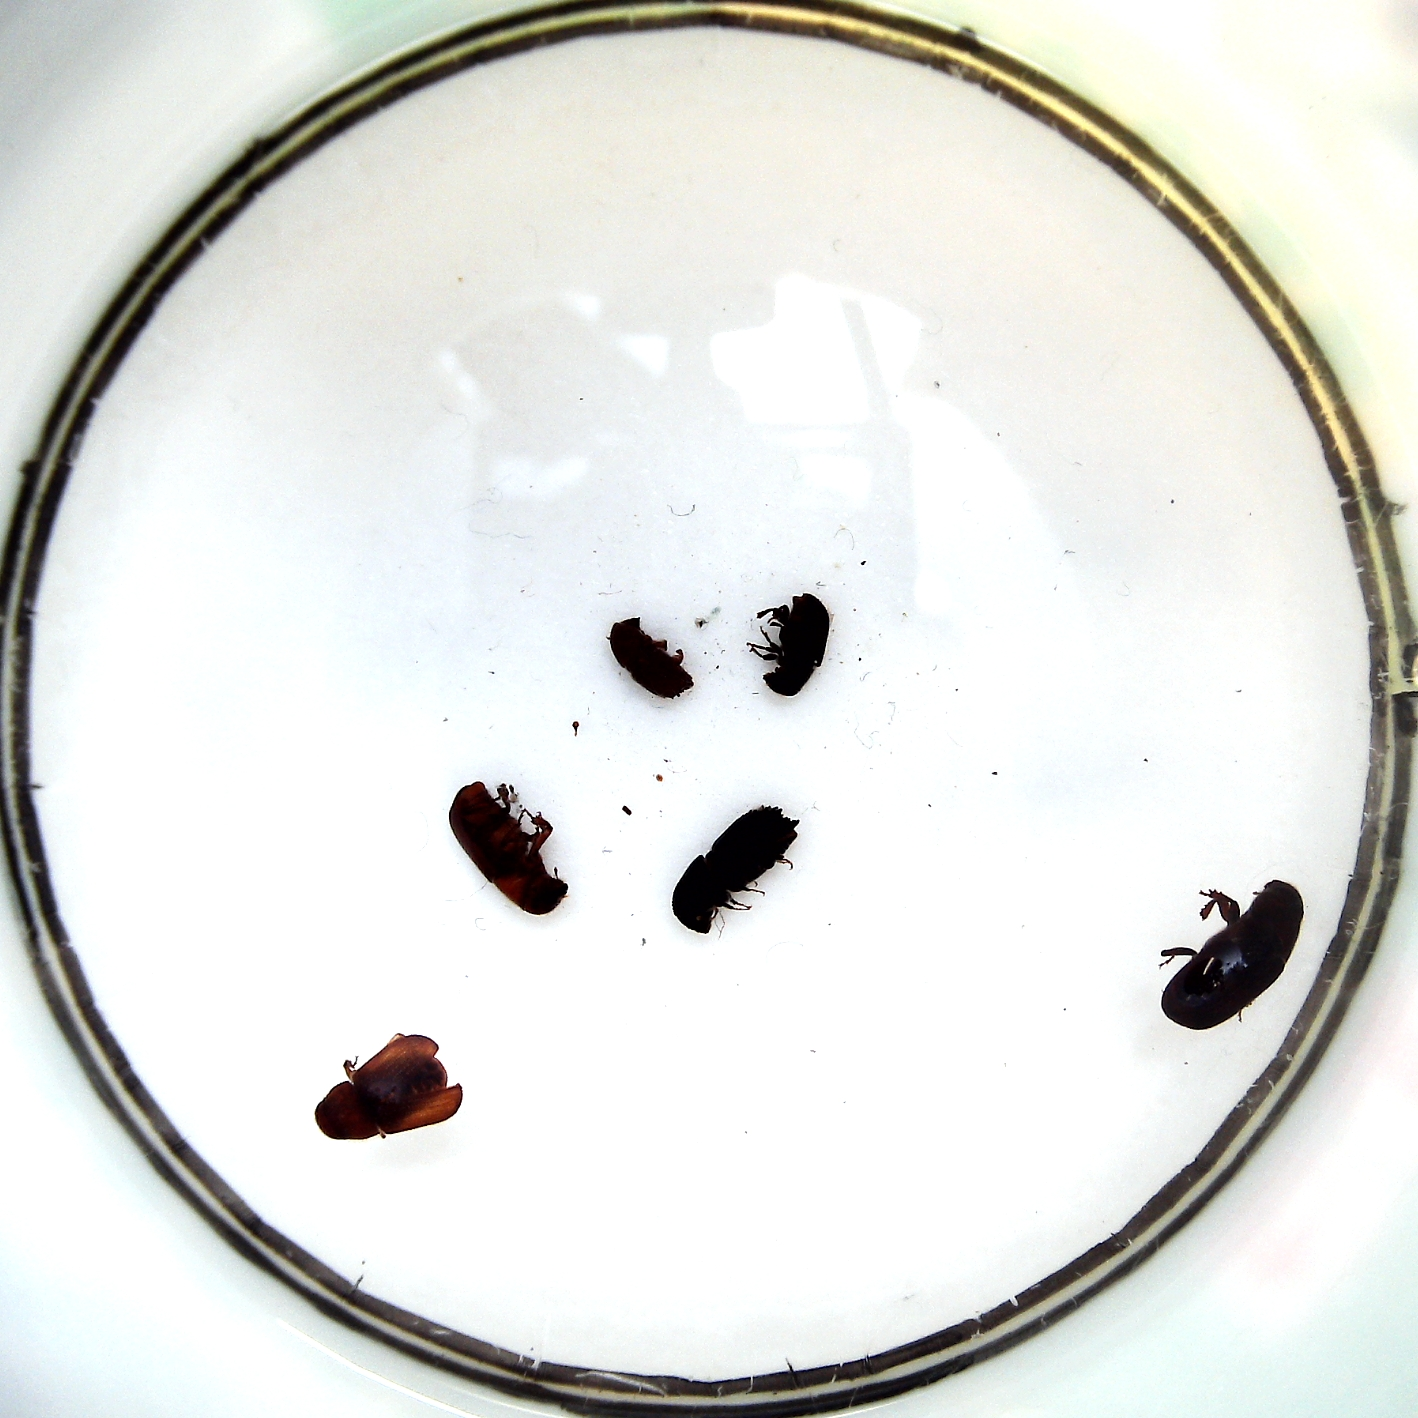Boerner: (671, 802, 799, 935)
Leconte: (1161, 877, 1305, 1027), (448, 782, 571, 915), (314, 1035, 465, 1140)
armandi: (764, 592, 828, 696)
linnaeus: (612, 616, 695, 699)
